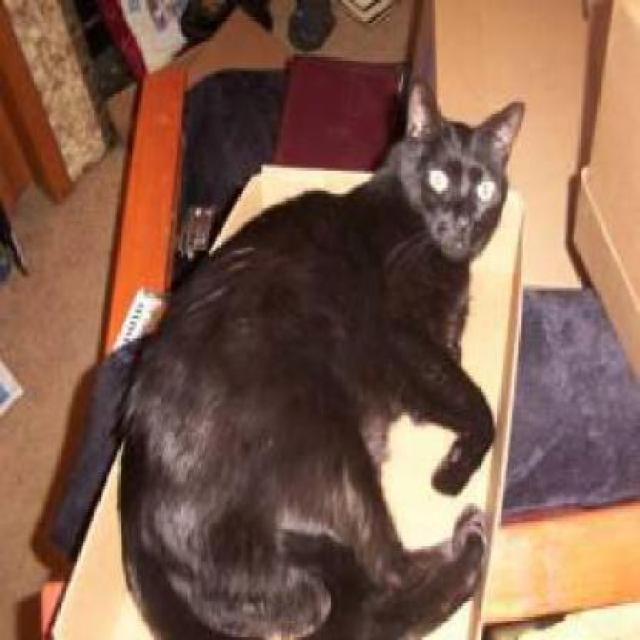cat: (115, 79, 527, 638)
